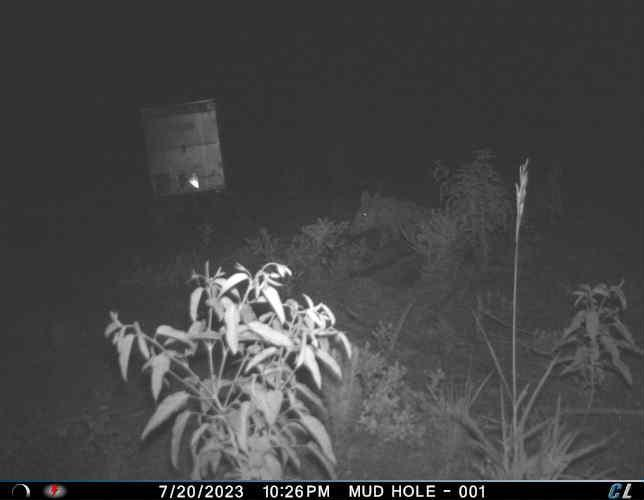Hog: (348, 188, 427, 243)
